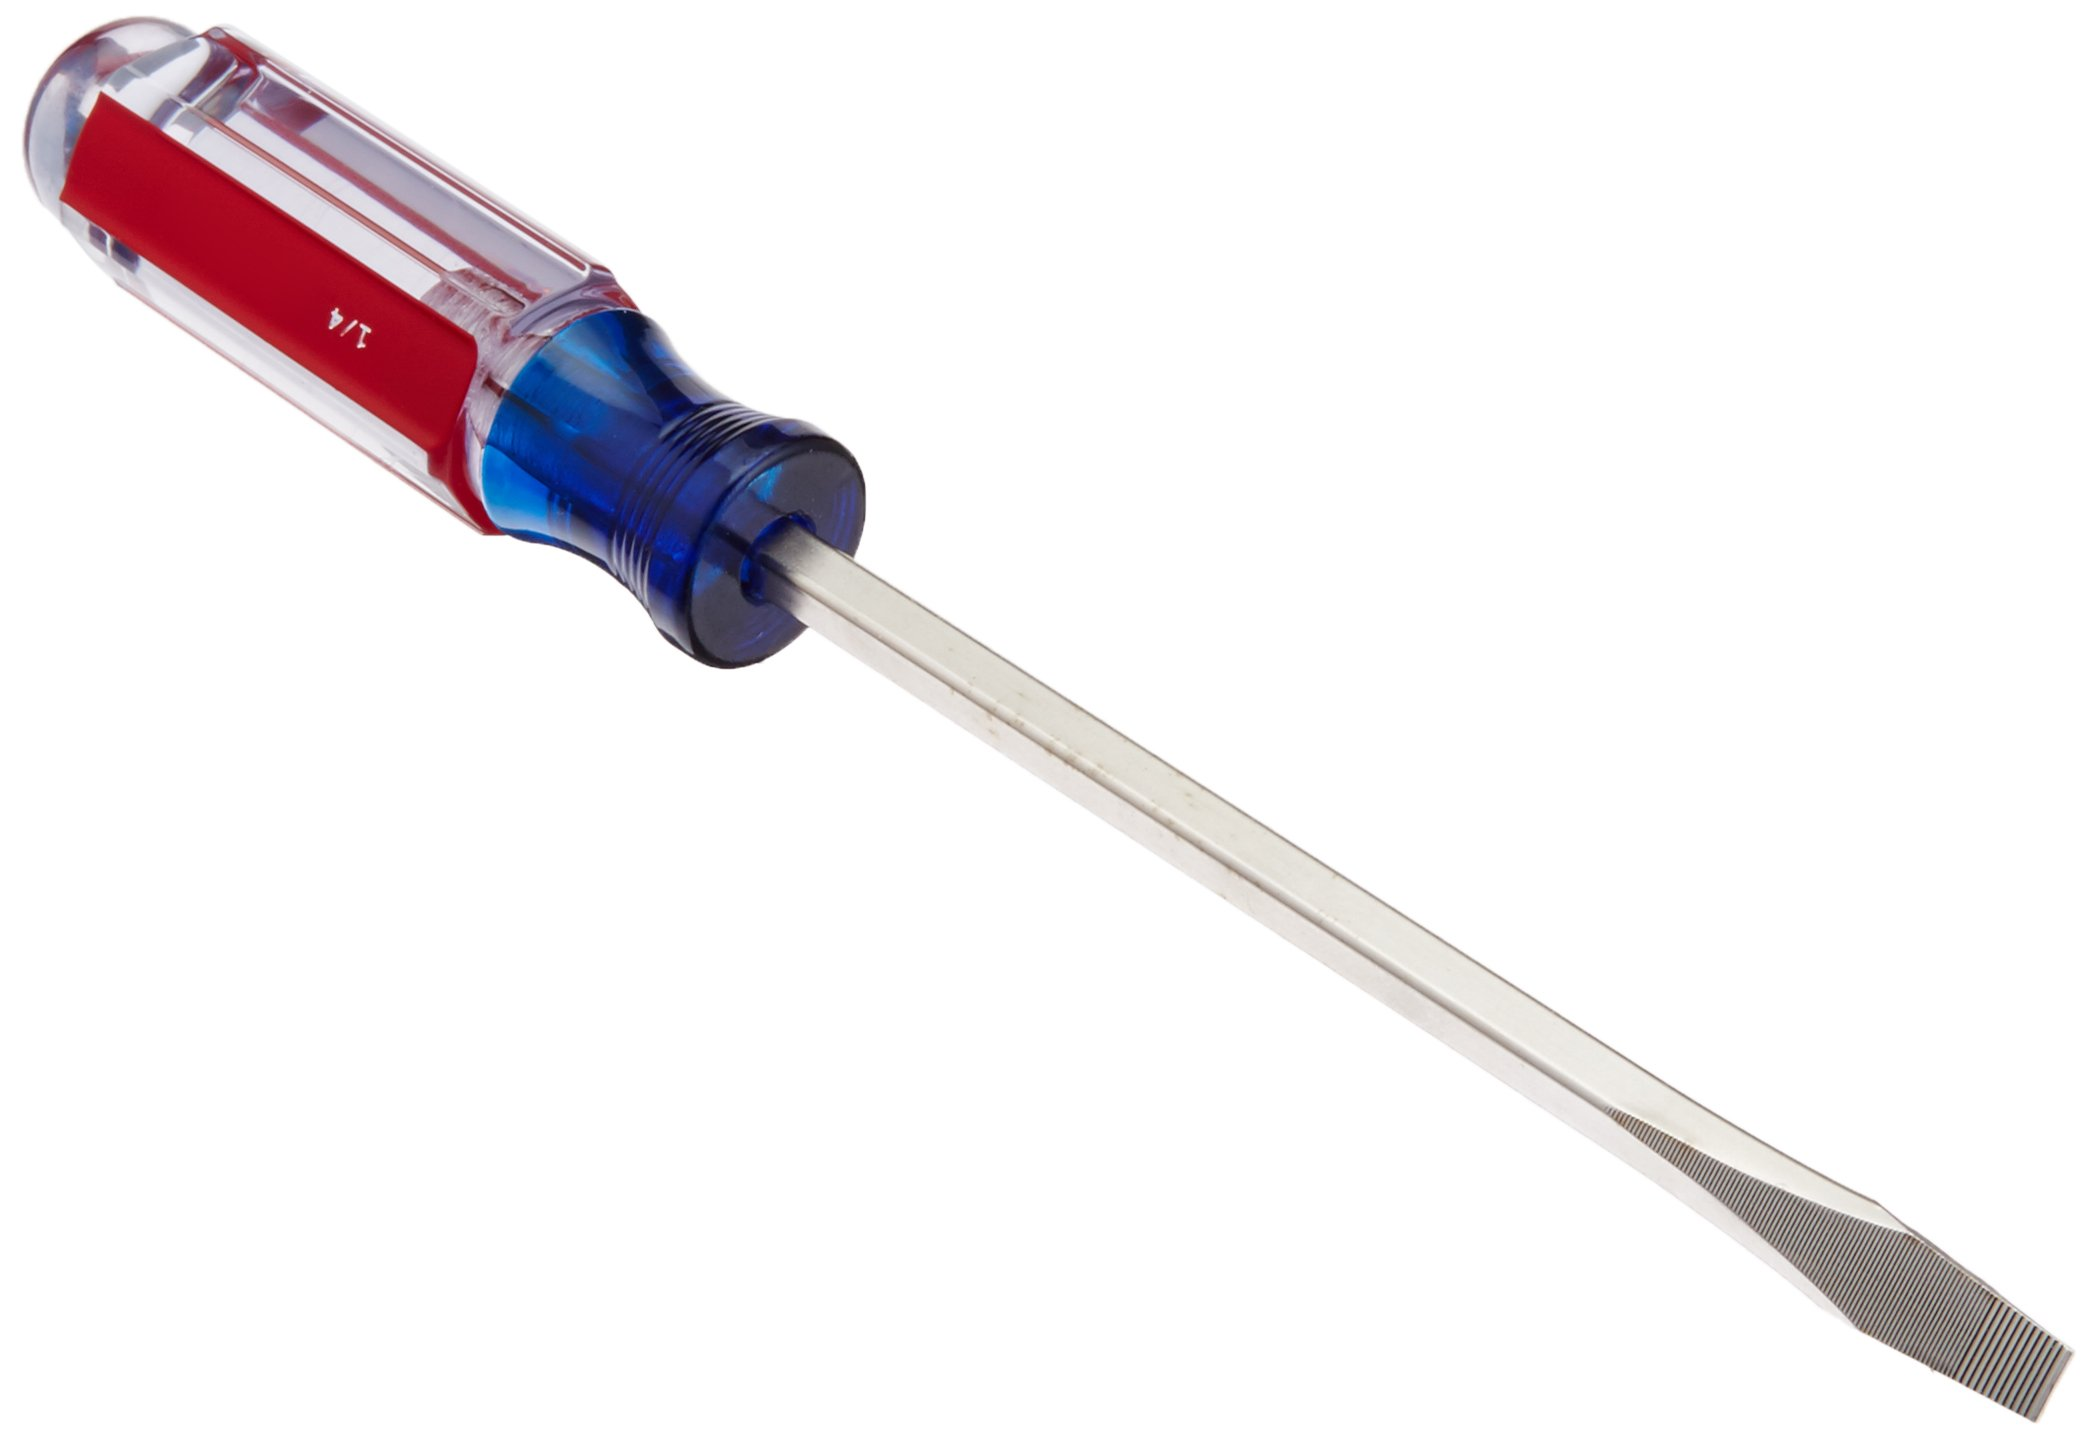screwdriver: (18, 13, 2077, 1425)
